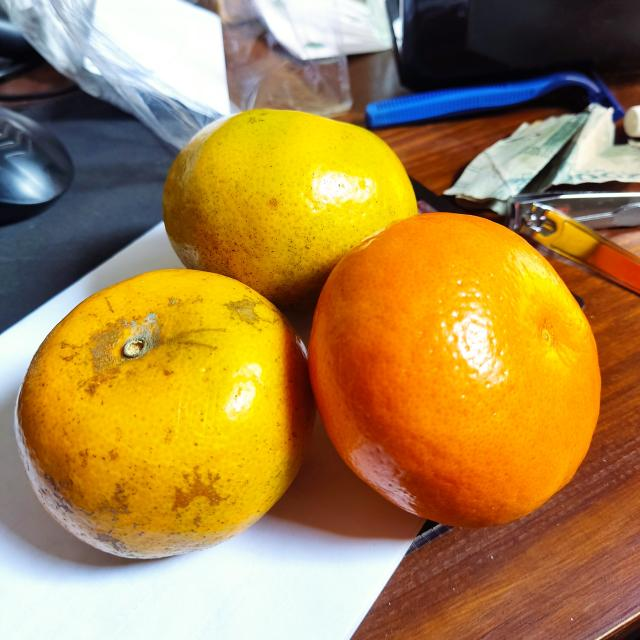orange: (16, 268, 315, 557), (162, 105, 414, 294)
